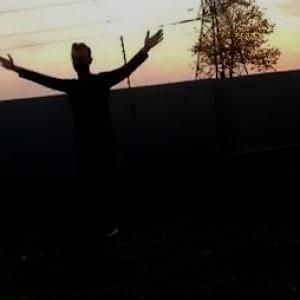takeoff: (7, 33, 155, 222)
